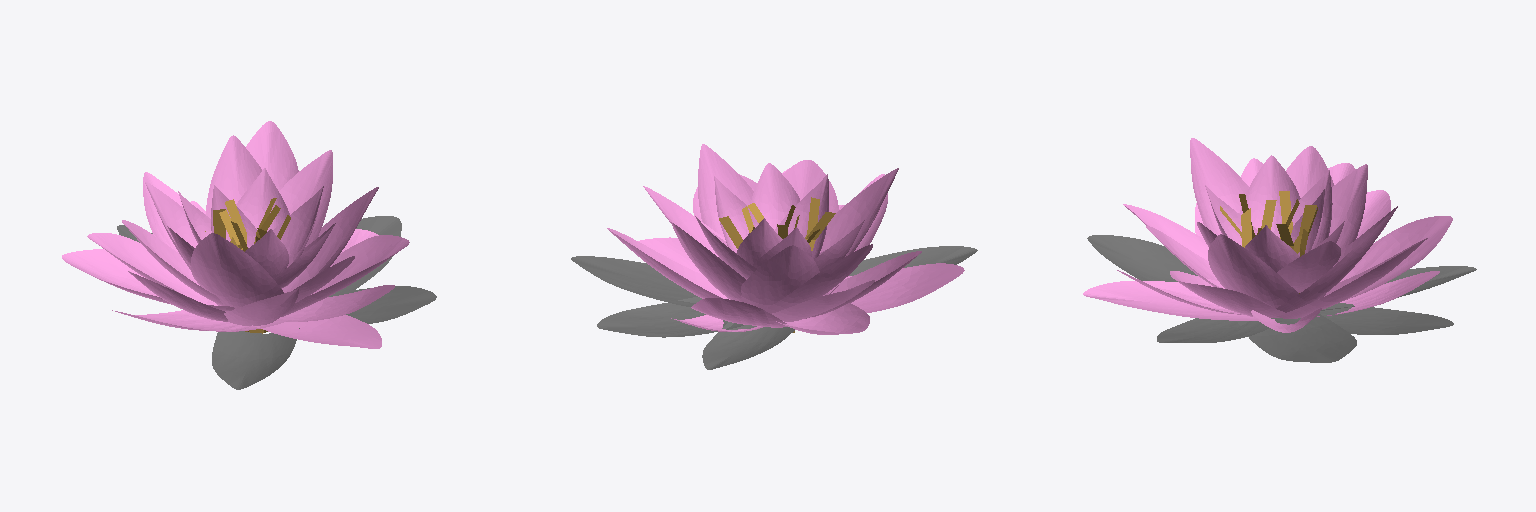
The model's file is Lillies.obj.
The picture shows the model from 3 angles: view 1: azimuth 30°, elevation 25°; view 2: azimuth 150°, elevation 25°; view 3: azimuth 270°, elevation 25°; orthographic projection.
Parts seen in each view (by area): view 1: pPlane4_pPlane4, pPlane74_pPlane74; view 2: pPlane4_pPlane4, pPlane74_pPlane74; view 3: pPlane4_pPlane4, pPlane74_pPlane74.
Boxes of the visible parts, <box> form: pPlane4_pPlane4: <box>62,121,436,389</box>; pPlane74_pPlane74: <box>205,198,290,333</box>; pPlane4_pPlane4: <box>571,144,977,369</box>; pPlane74_pPlane74: <box>719,197,835,332</box>; pPlane4_pPlane4: <box>1083,138,1476,362</box>; pPlane74_pPlane74: <box>1220,191,1317,293</box>.
Bounding box in the file's own units: 1.16 × 0.4979 × 1.17.